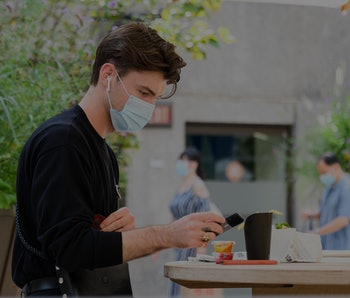earphone: (100, 63, 116, 92)
